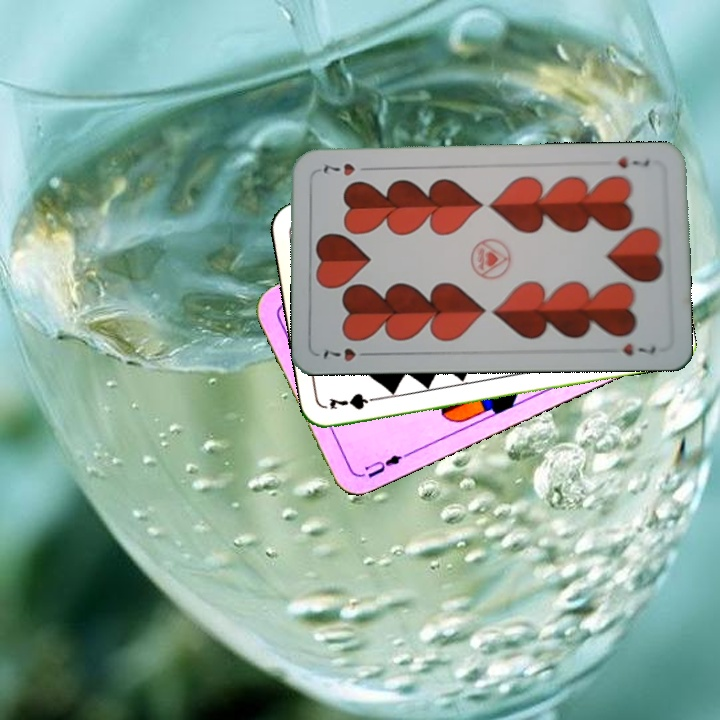EU: (360, 448, 412, 481)
G7: (325, 389, 384, 412)
H7: (319, 344, 375, 364), (614, 152, 652, 170)
